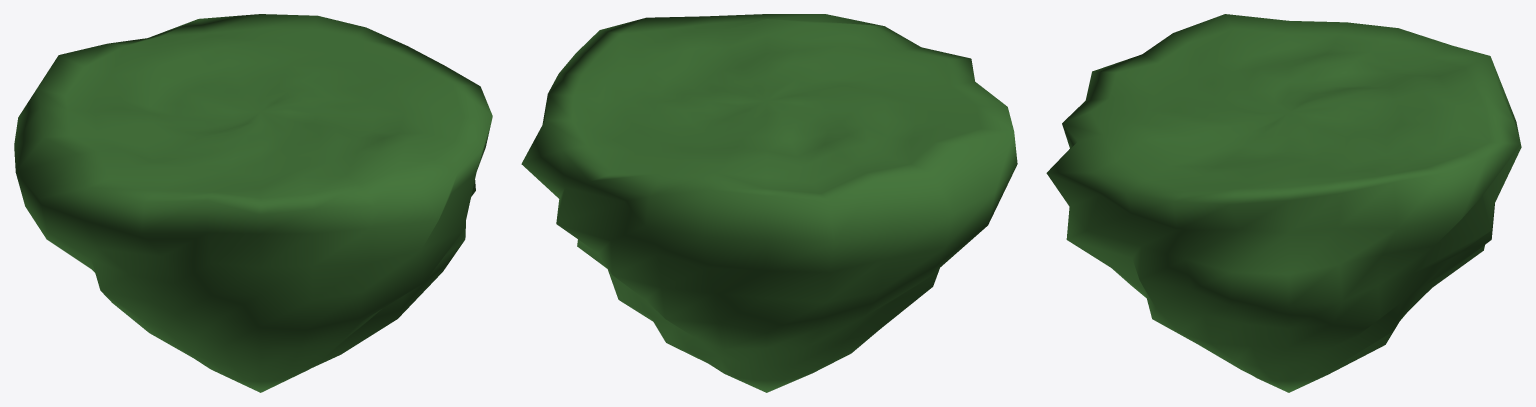
File: yavin.obj
3 views of the same model, side by side, from view 1: azimuth 30°, elevation 25°; view 2: azimuth 150°, elevation 25°; view 3: azimuth 270°, elevation 25° (orthographic). The views are drawn at different scales.
Visible parts, largest first — view 1: yavin_island; view 2: yavin_island; view 3: yavin_island.
Boxes of the visible parts, x1,y1,x2,y2 form: yavin_island: [14, 14, 492, 392]; yavin_island: [521, 14, 1017, 392]; yavin_island: [1046, 14, 1521, 392].
Size of the model in its own units: 1.3 by 0.8796 by 1.31.
